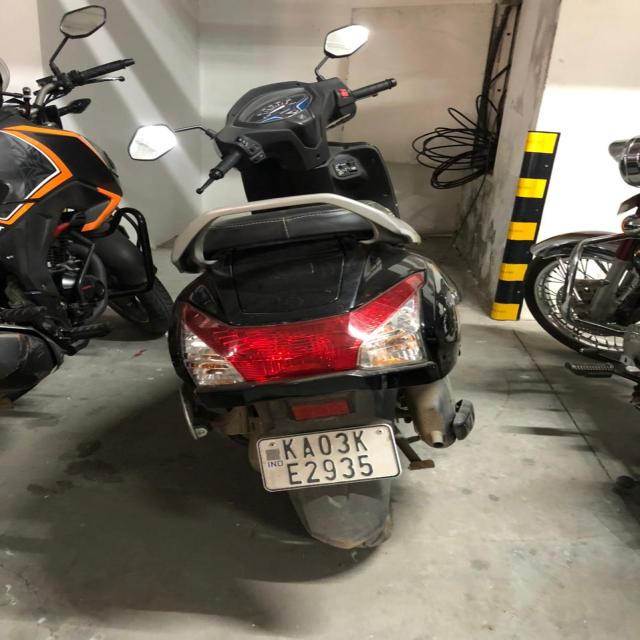number plate: (255, 422, 402, 492)
